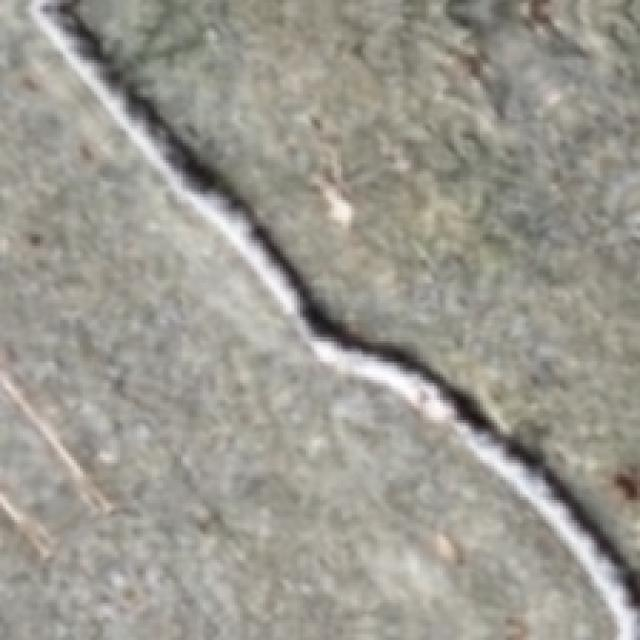reticulated python: (29, 0, 637, 637)
